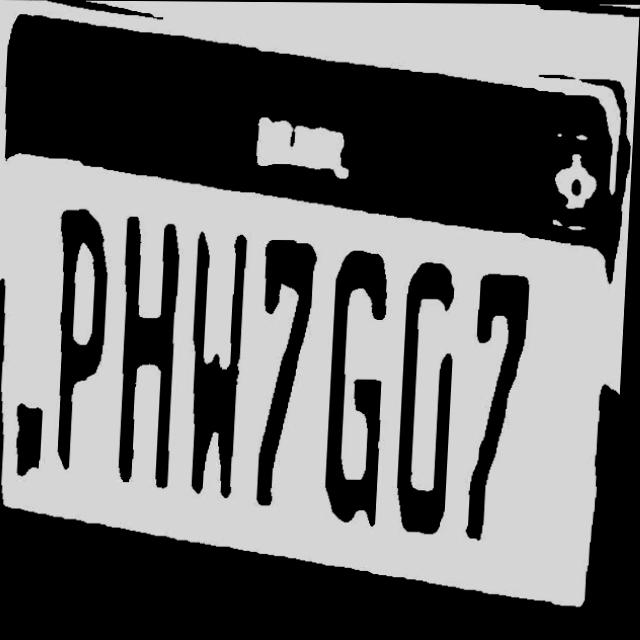0: (395, 248, 466, 538)
7: (465, 250, 554, 558), (249, 227, 333, 524)
g: (323, 242, 404, 531)
h: (113, 208, 192, 512)
p: (48, 198, 121, 486)
w: (179, 214, 252, 508)
